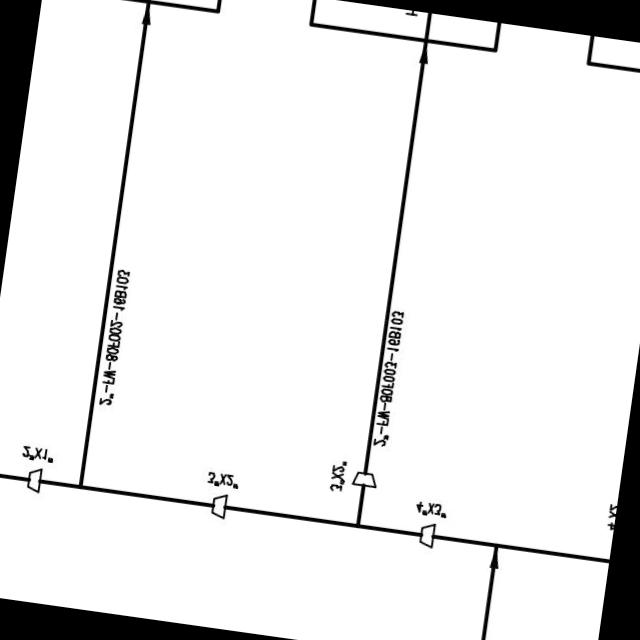SP: (416, 520, 443, 554), (348, 466, 383, 491), (208, 490, 232, 520), (24, 464, 45, 495)
